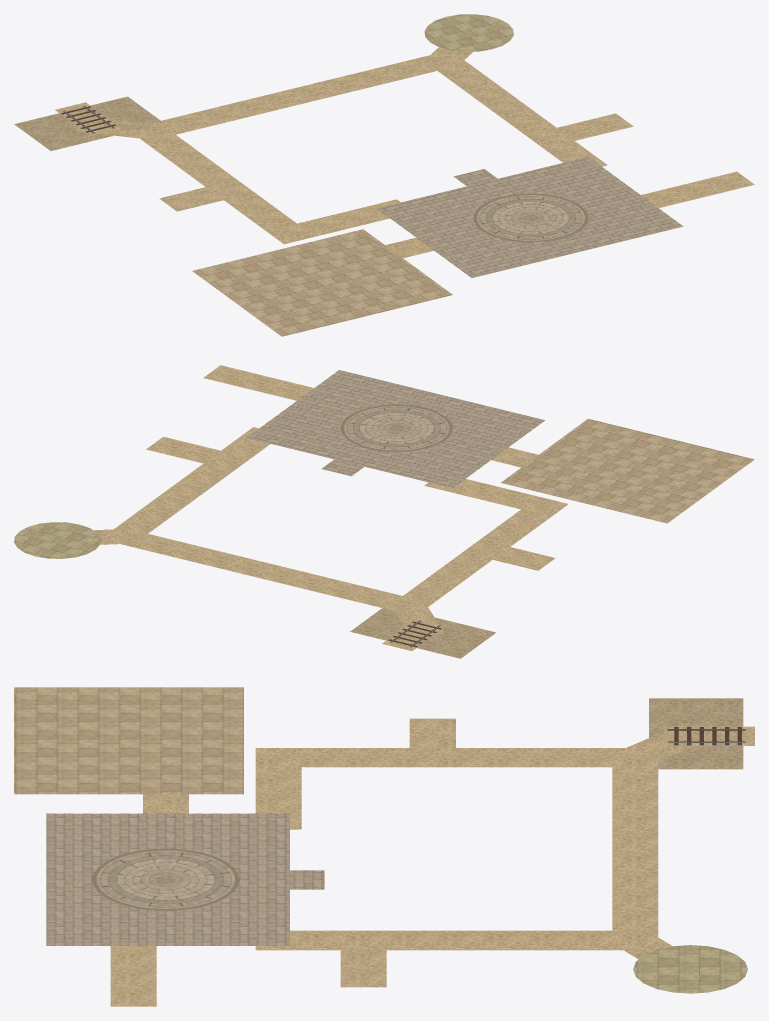
File: townPaths.glb
3 renders of one model, top to bottom at view 1: azimuth 30°, elevation 25°; view 2: azimuth 150°, elevation 25°; view 3: azimuth 270°, elevation 25°, orthographic. The views are drawn at different scales.
Visible parts, largest first — view 1: townPaths; view 2: townPaths; view 3: townPaths.
Boxes of the visible parts, left/top/right/bottom form: townPaths: left=14, top=14, right=754, bottom=336; townPaths: left=14, top=365, right=754, bottom=658; townPaths: left=14, top=687, right=754, bottom=1006.
Bounding box in the file's own units: 32.8 × 0.022 × 32.2.
8 materials, 8 textured.
